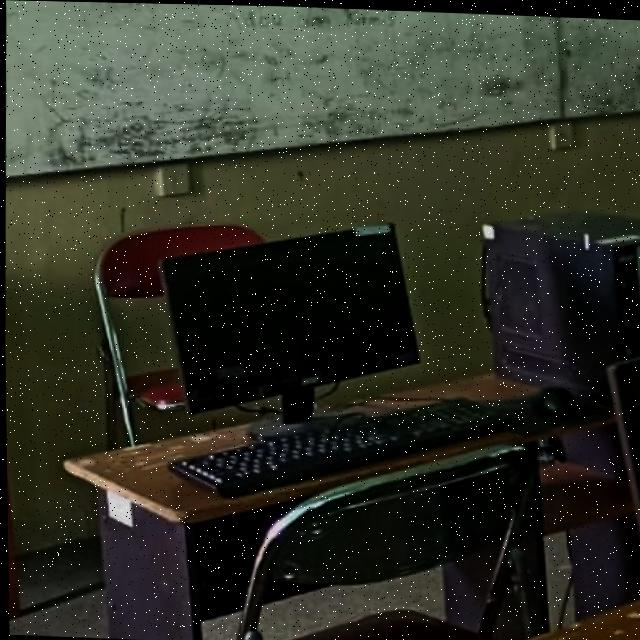offscreen: (162, 229, 417, 421)
